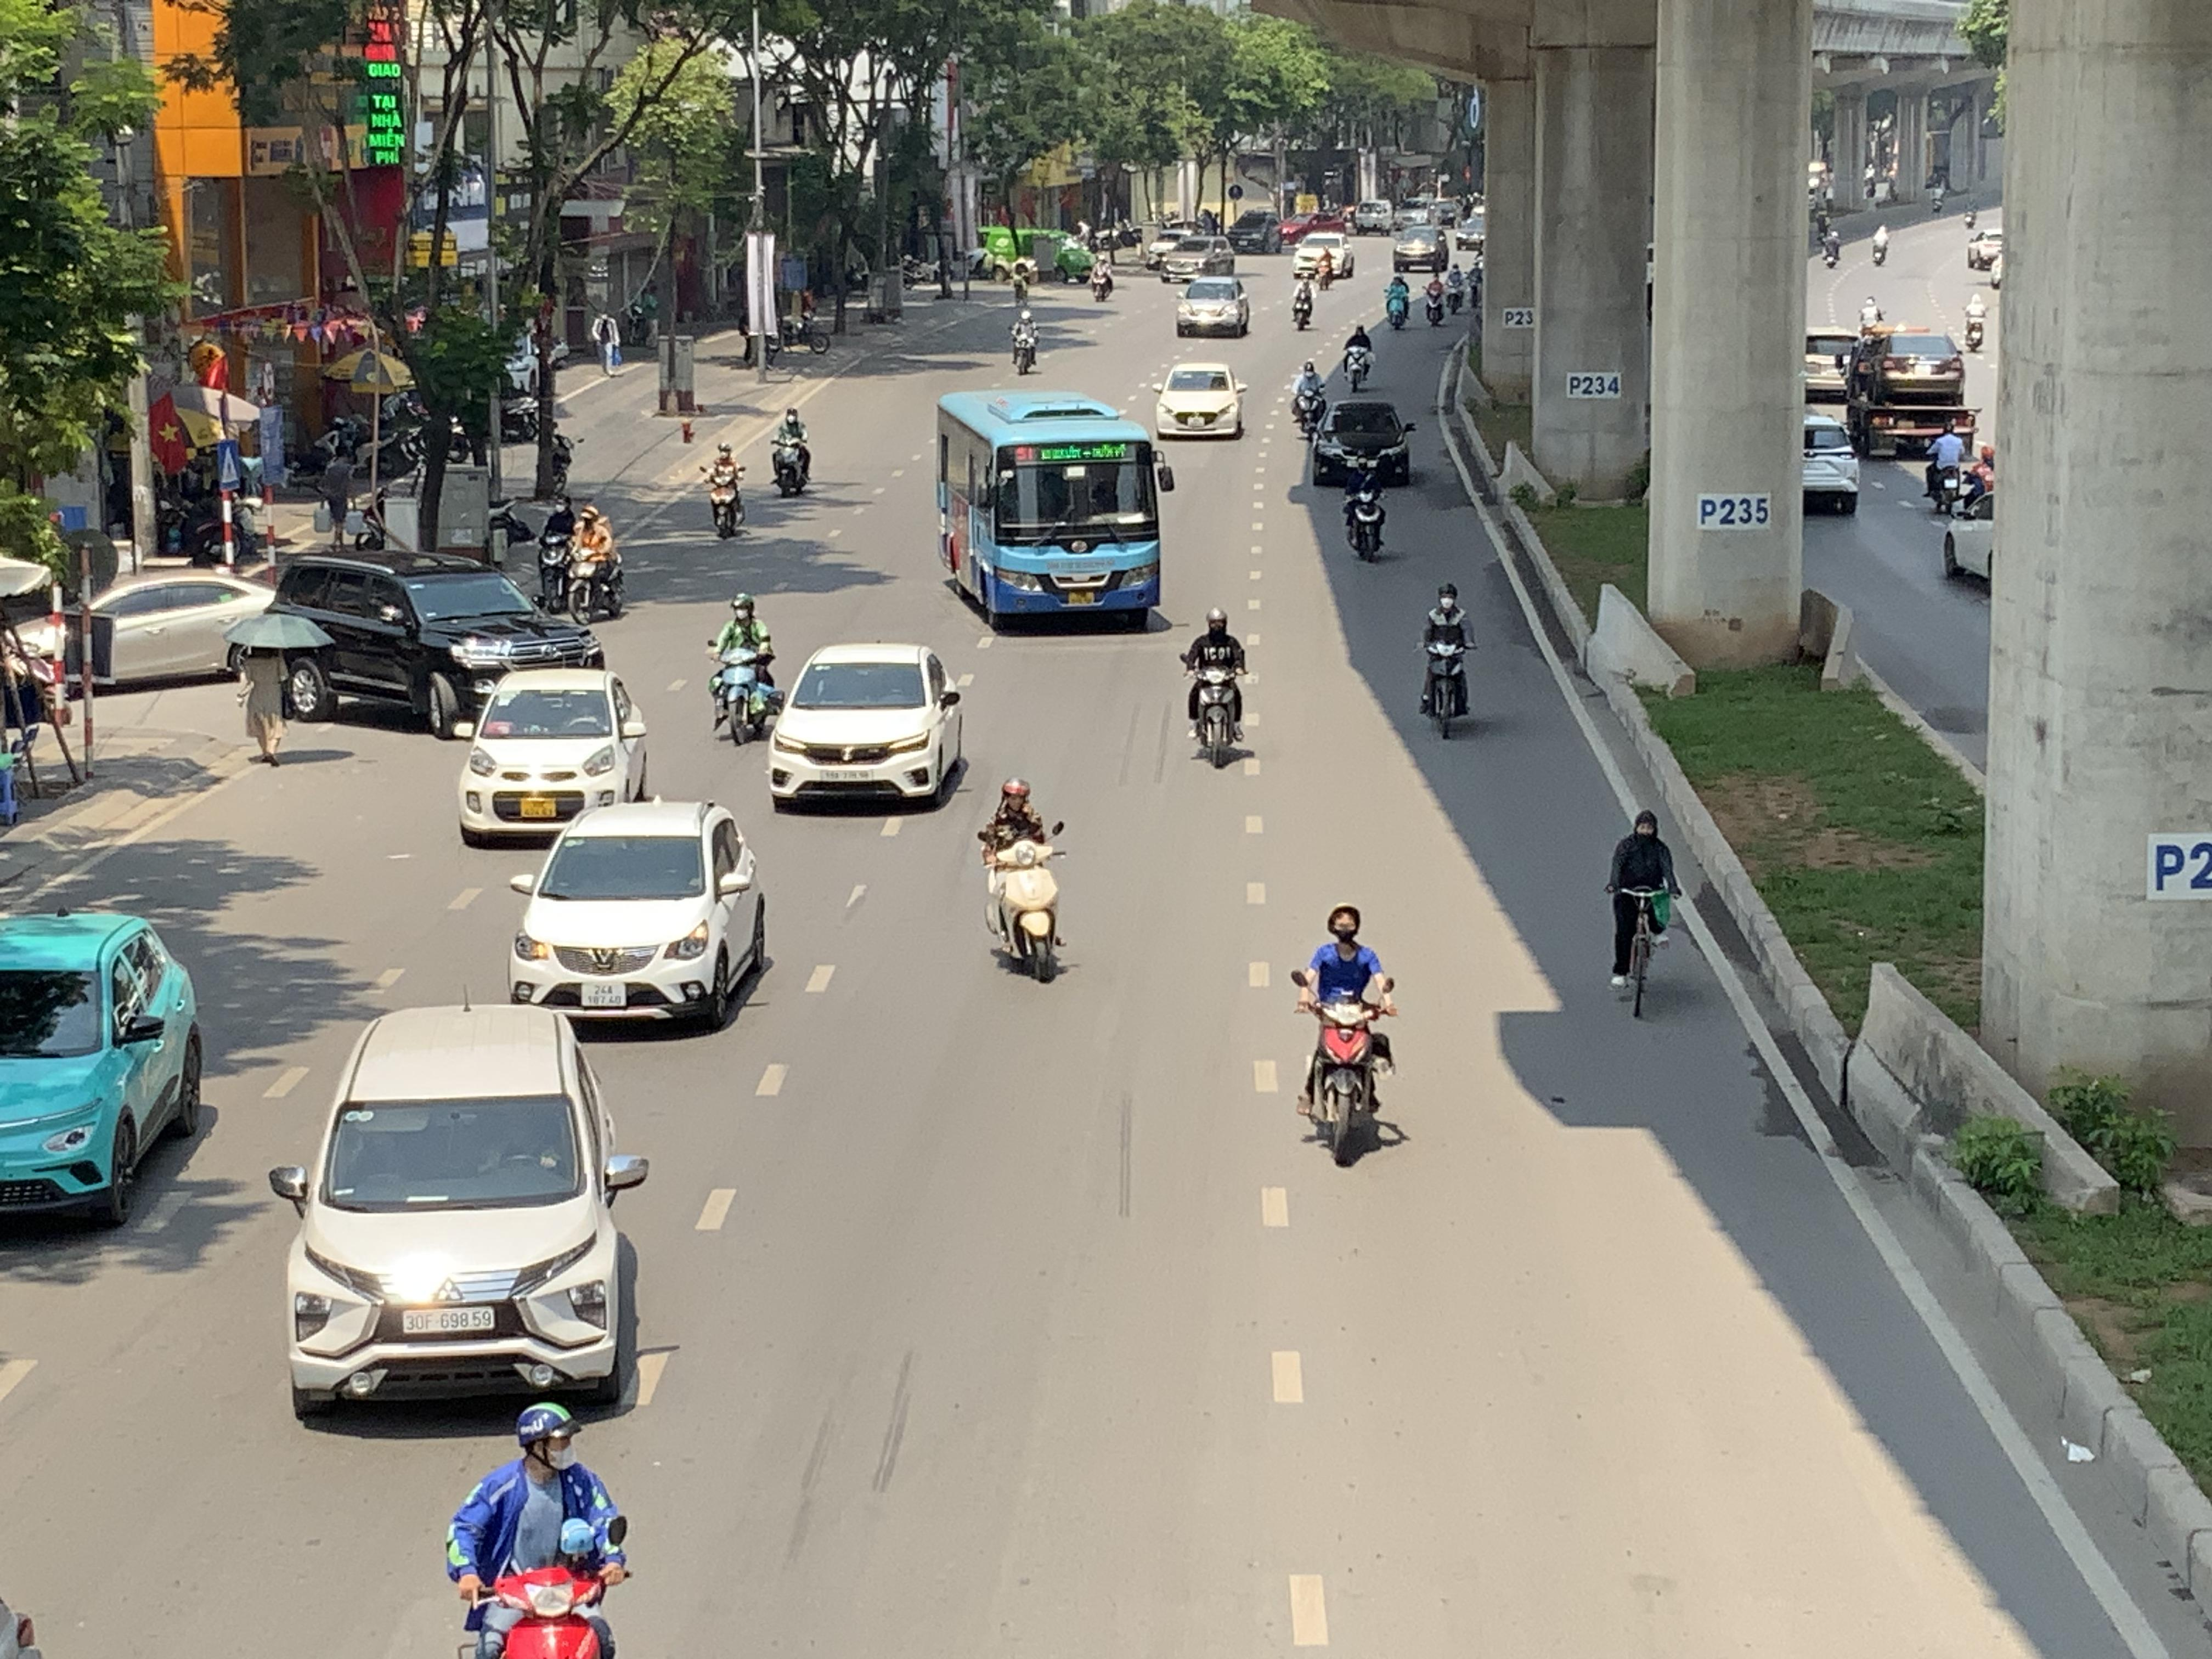BSD: (404, 1307, 495, 1333)
BSV: (578, 981, 627, 1007), (521, 798, 556, 817)
bus: (934, 387, 1172, 631)
car: (268, 1002, 651, 1419), (0, 908, 209, 1232), (507, 798, 773, 1033), (263, 552, 604, 735), (458, 666, 653, 847), (766, 641, 968, 814), (64, 570, 279, 694), (1844, 326, 1968, 458), (1308, 394, 1416, 486), (1153, 361, 1247, 439), (1803, 411, 1860, 516), (1174, 274, 1251, 338), (1292, 230, 1355, 281), (1390, 220, 1449, 270)
motorbike: (446, 1401, 631, 1659), (1292, 904, 1397, 1169), (979, 777, 1066, 983), (1606, 809, 1679, 1018), (1181, 606, 1251, 767), (707, 594, 780, 744), (1418, 582, 1475, 739), (564, 504, 627, 620), (1341, 448, 1390, 561), (535, 497, 578, 612), (1923, 415, 1972, 516), (702, 441, 747, 538), (768, 404, 813, 497), (1291, 359, 1329, 437), (777, 305, 833, 356), (1341, 319, 1376, 390), (1010, 303, 1042, 375), (1963, 286, 1991, 354), (1385, 267, 1413, 329), (1291, 270, 1317, 331), (1423, 265, 1449, 326), (1090, 246, 1115, 303)
